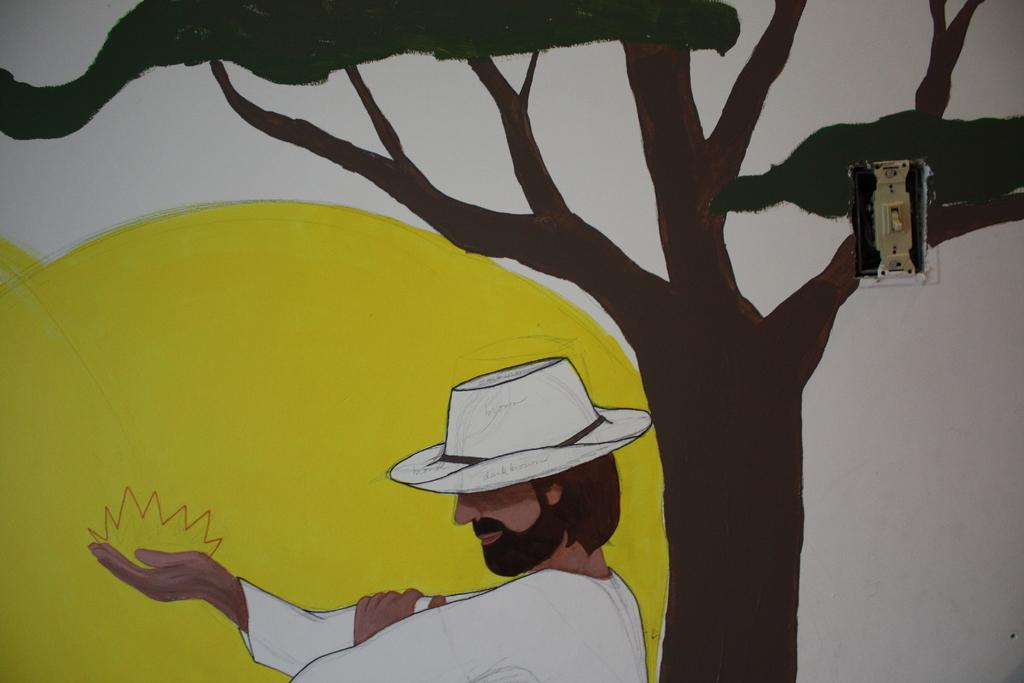Hat: (390, 357, 652, 497)
